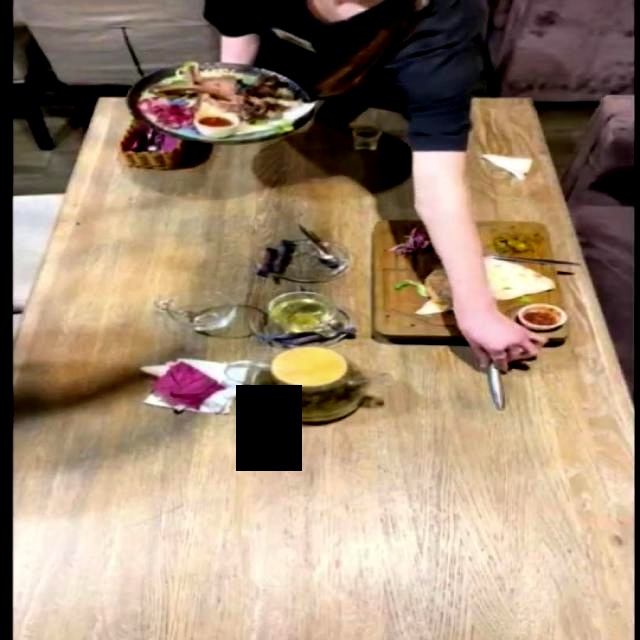meat: (367, 213, 570, 346), (133, 63, 313, 138)
tea: (231, 338, 359, 425)
